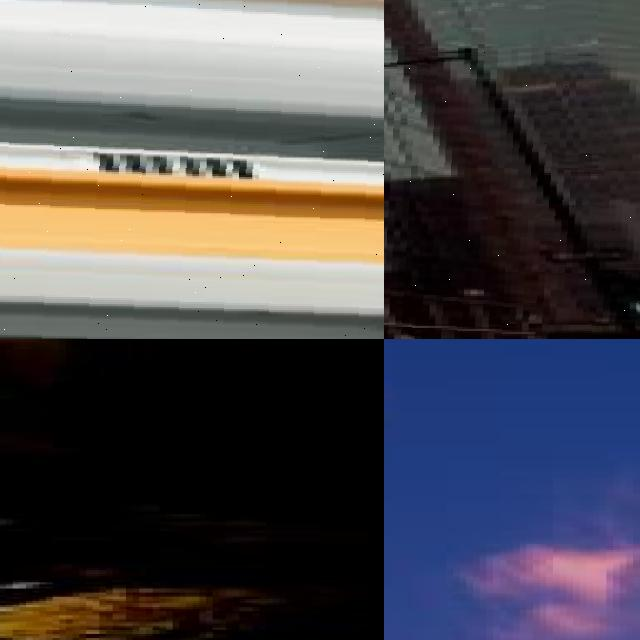street light: (0, 0, 384, 339), (384, 48, 640, 339)
